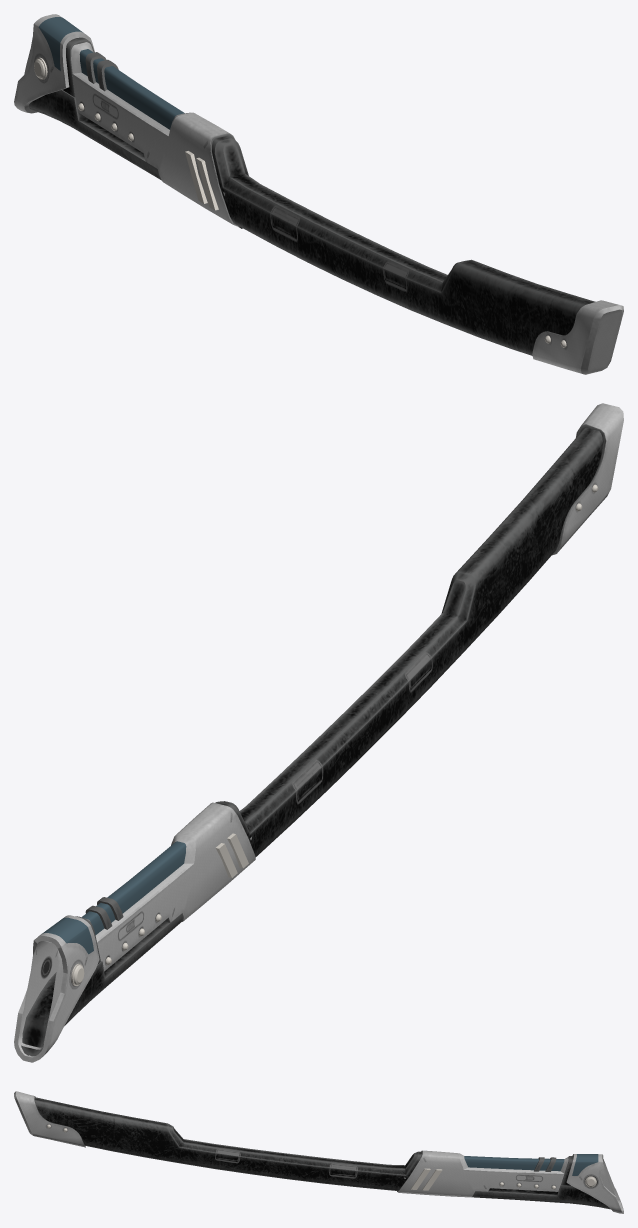
Rendered from sheath_p.gltf.
3 renders of one model, top to bottom at view 1: azimuth 30°, elevation 25°; view 2: azimuth 150°, elevation 25°; view 3: azimuth 270°, elevation 25°, orthographic. The views are drawn at different scales.
Parts seen in each view (by area): view 1: Peacemaker_Holster; view 2: Peacemaker_Holster; view 3: Peacemaker_Holster.
Boxes of the visible parts, box(x1,y1,x2,y2) form: Peacemaker_Holster: box(14, 14, 623, 374); Peacemaker_Holster: box(14, 403, 623, 1062); Peacemaker_Holster: box(14, 1091, 623, 1213).
Bounding box in the file's own units: 0.0482 × 0.2429 × 1.12.
2 materials, 2 textured.
